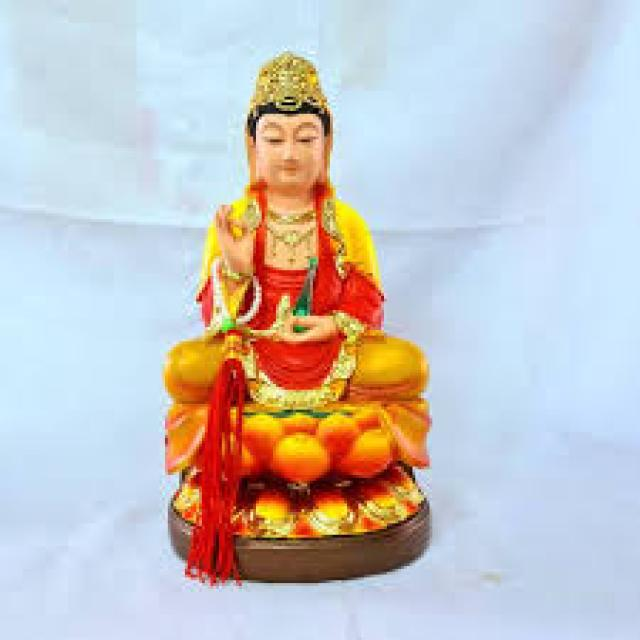Guan Yin: (190, 52, 390, 381)
